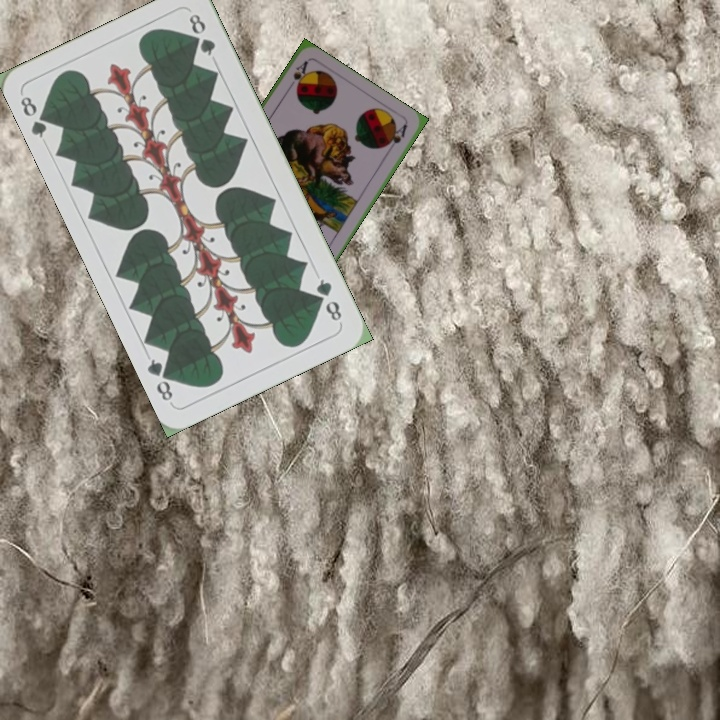G8: (16, 92, 55, 141), (312, 274, 345, 324)
SA: (289, 57, 310, 92)
